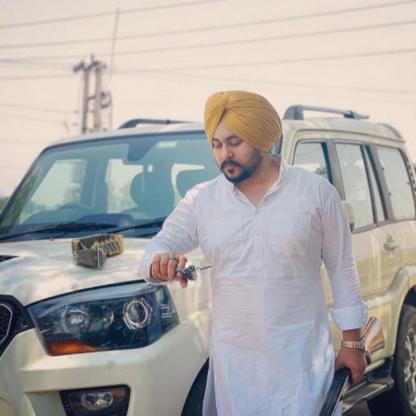handgun: (168, 262, 201, 288)
